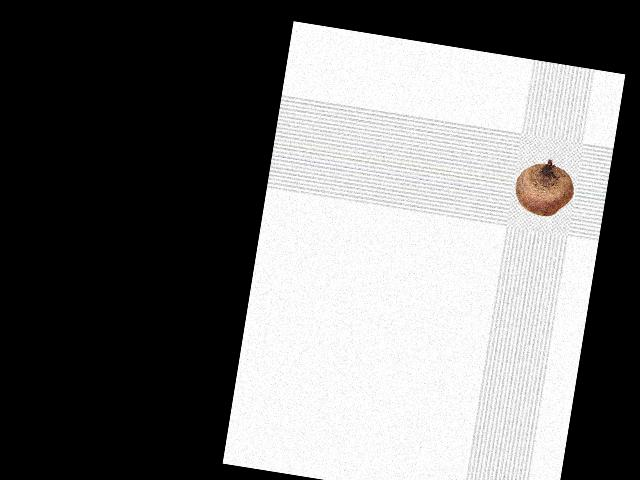beet: (512, 154, 578, 219)
